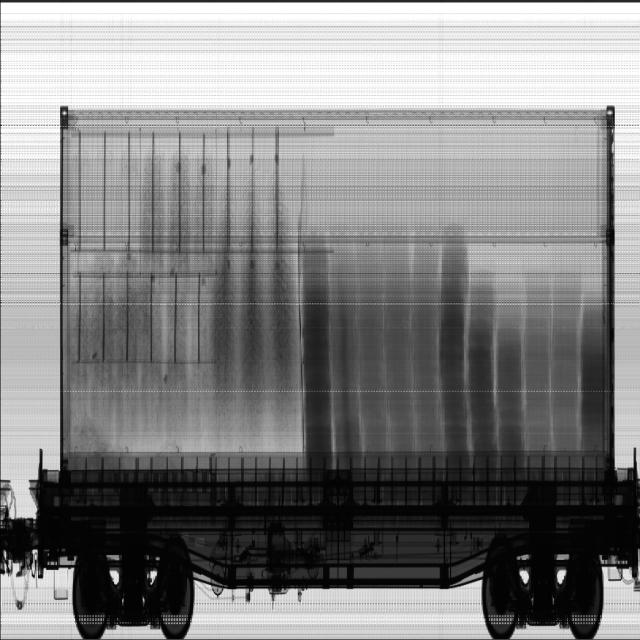textiles: (303, 230, 607, 453)
